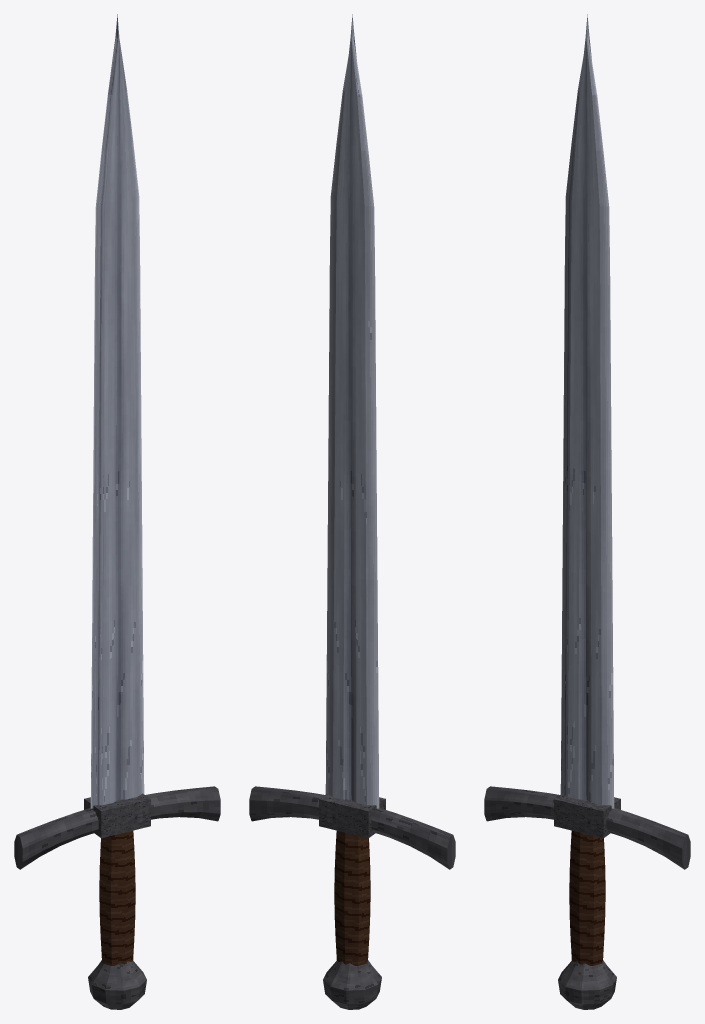
File: sword.glb
3 views of the same model, side by side, from view 1: azimuth 30°, elevation 25°; view 2: azimuth 150°, elevation 25°; view 3: azimuth 330°, elevation 25° (orthographic).
Visible parts, largest first — view 1: W_Sword; view 2: W_Sword; view 3: W_Sword.
Part boxes in pixels (<box>): W_Sword: <box>14,14,220,1009</box>; W_Sword: <box>249,14,455,1009</box>; W_Sword: <box>484,14,690,1009</box>.
Size of the model in its own units: 0.2 by 0.958 by 0.0495.
3 materials, 3 textured.
